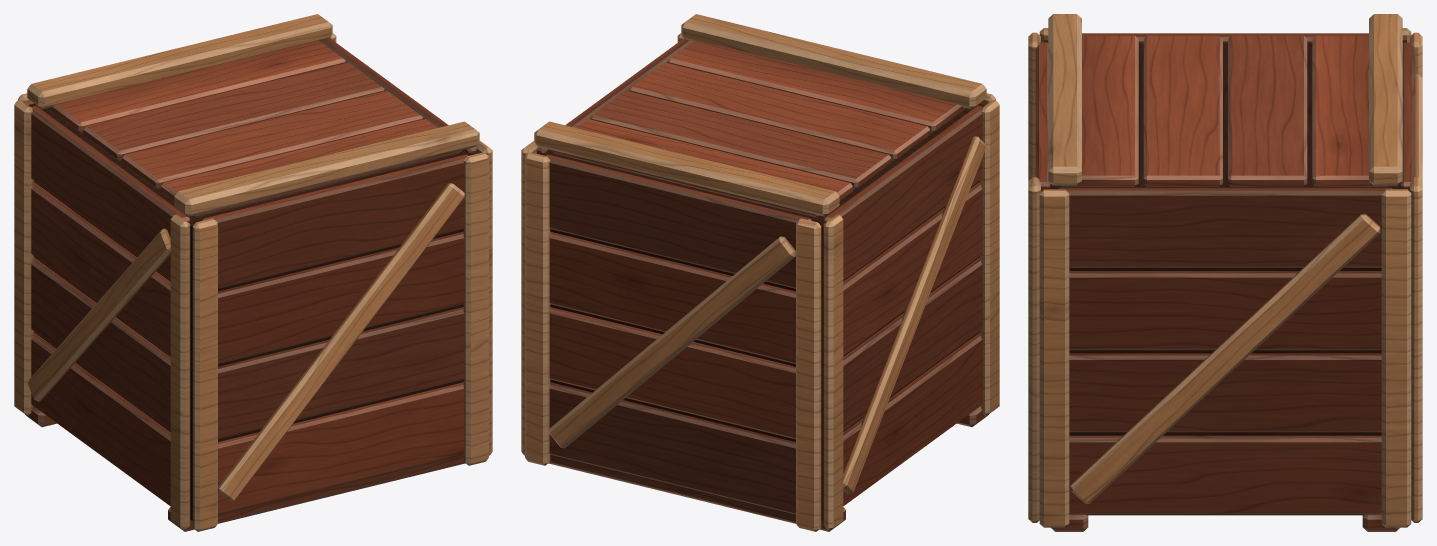
Rendered from crate_a.glb.
3 views of the same model, side by side, from view 1: azimuth 30°, elevation 25°; view 2: azimuth 150°, elevation 25°; view 3: azimuth 270°, elevation 25° (orthographic). The views are drawn at different scales.
Parts seen in each view (by area): view 1: crate; view 2: crate; view 3: crate.
Boxes of the visible parts, <box> form: crate: <box>14,14,492,531</box>; crate: <box>521,14,999,531</box>; crate: <box>1028,14,1422,531</box>.
Bounding box in the file's own units: 0.934 × 0.95 × 0.934.
Materials: 1 (1 with a texture image).
